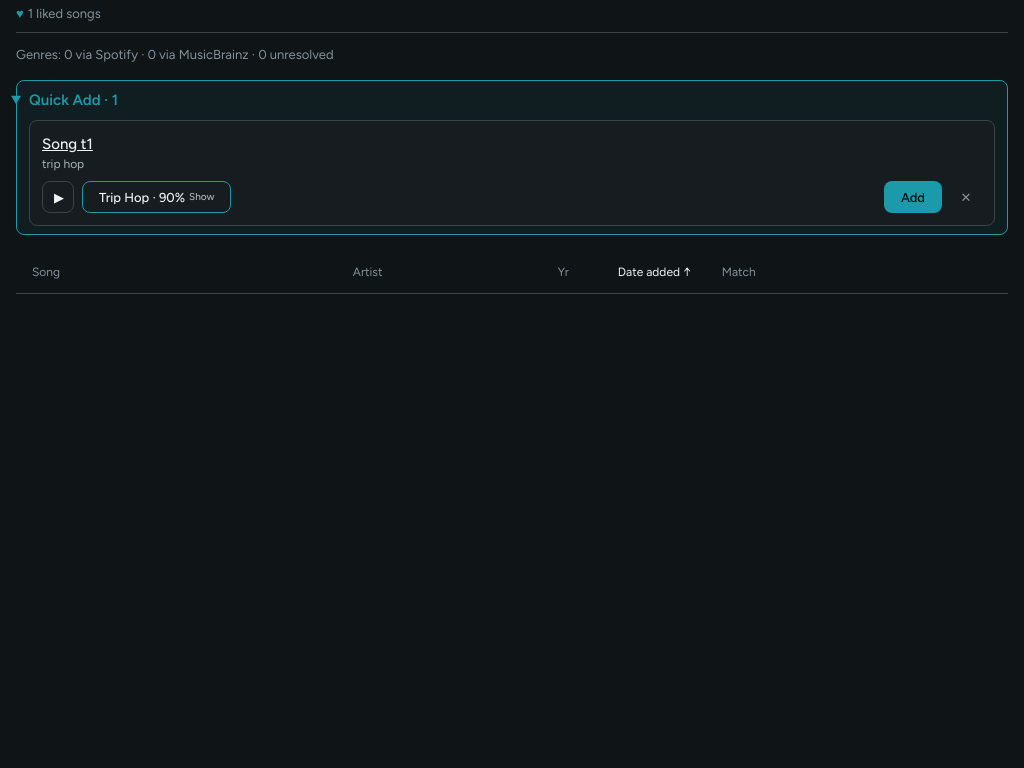
add → adds to playlist, unlikes, logs, removes row, offers undo
The width and height of the screenshot is (1024, 768).
Click the button "Add".
click(913, 197)  # box [884,181,942,213]
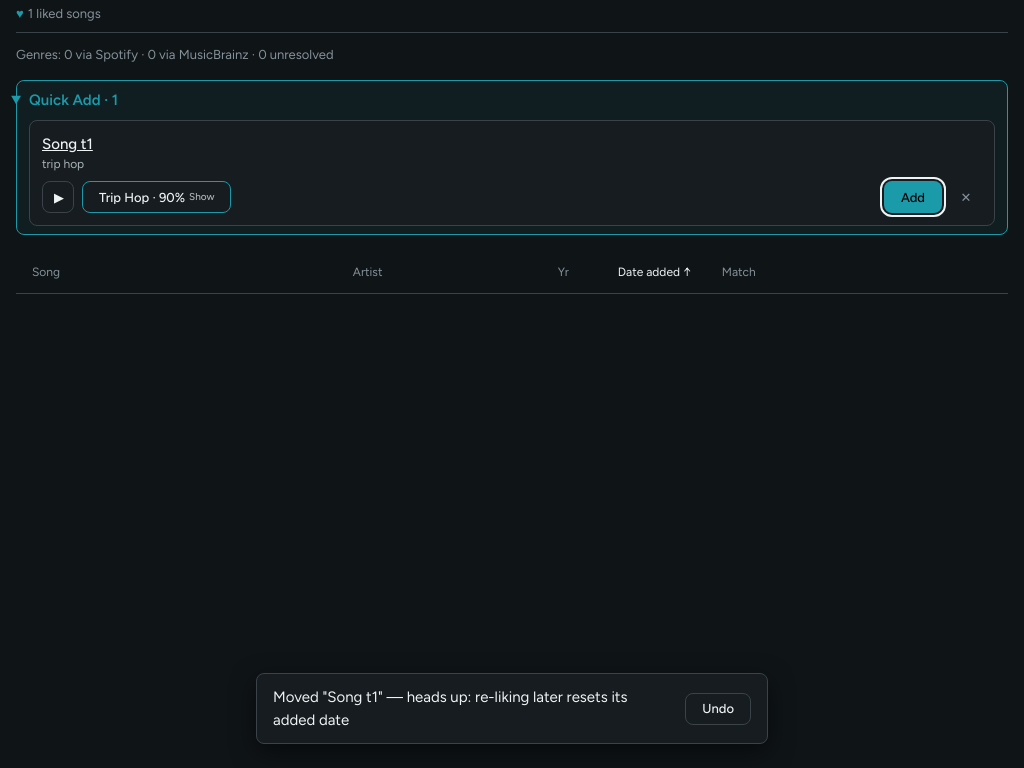
Now the button "Undo" is shown, box [685,692,751,724]
